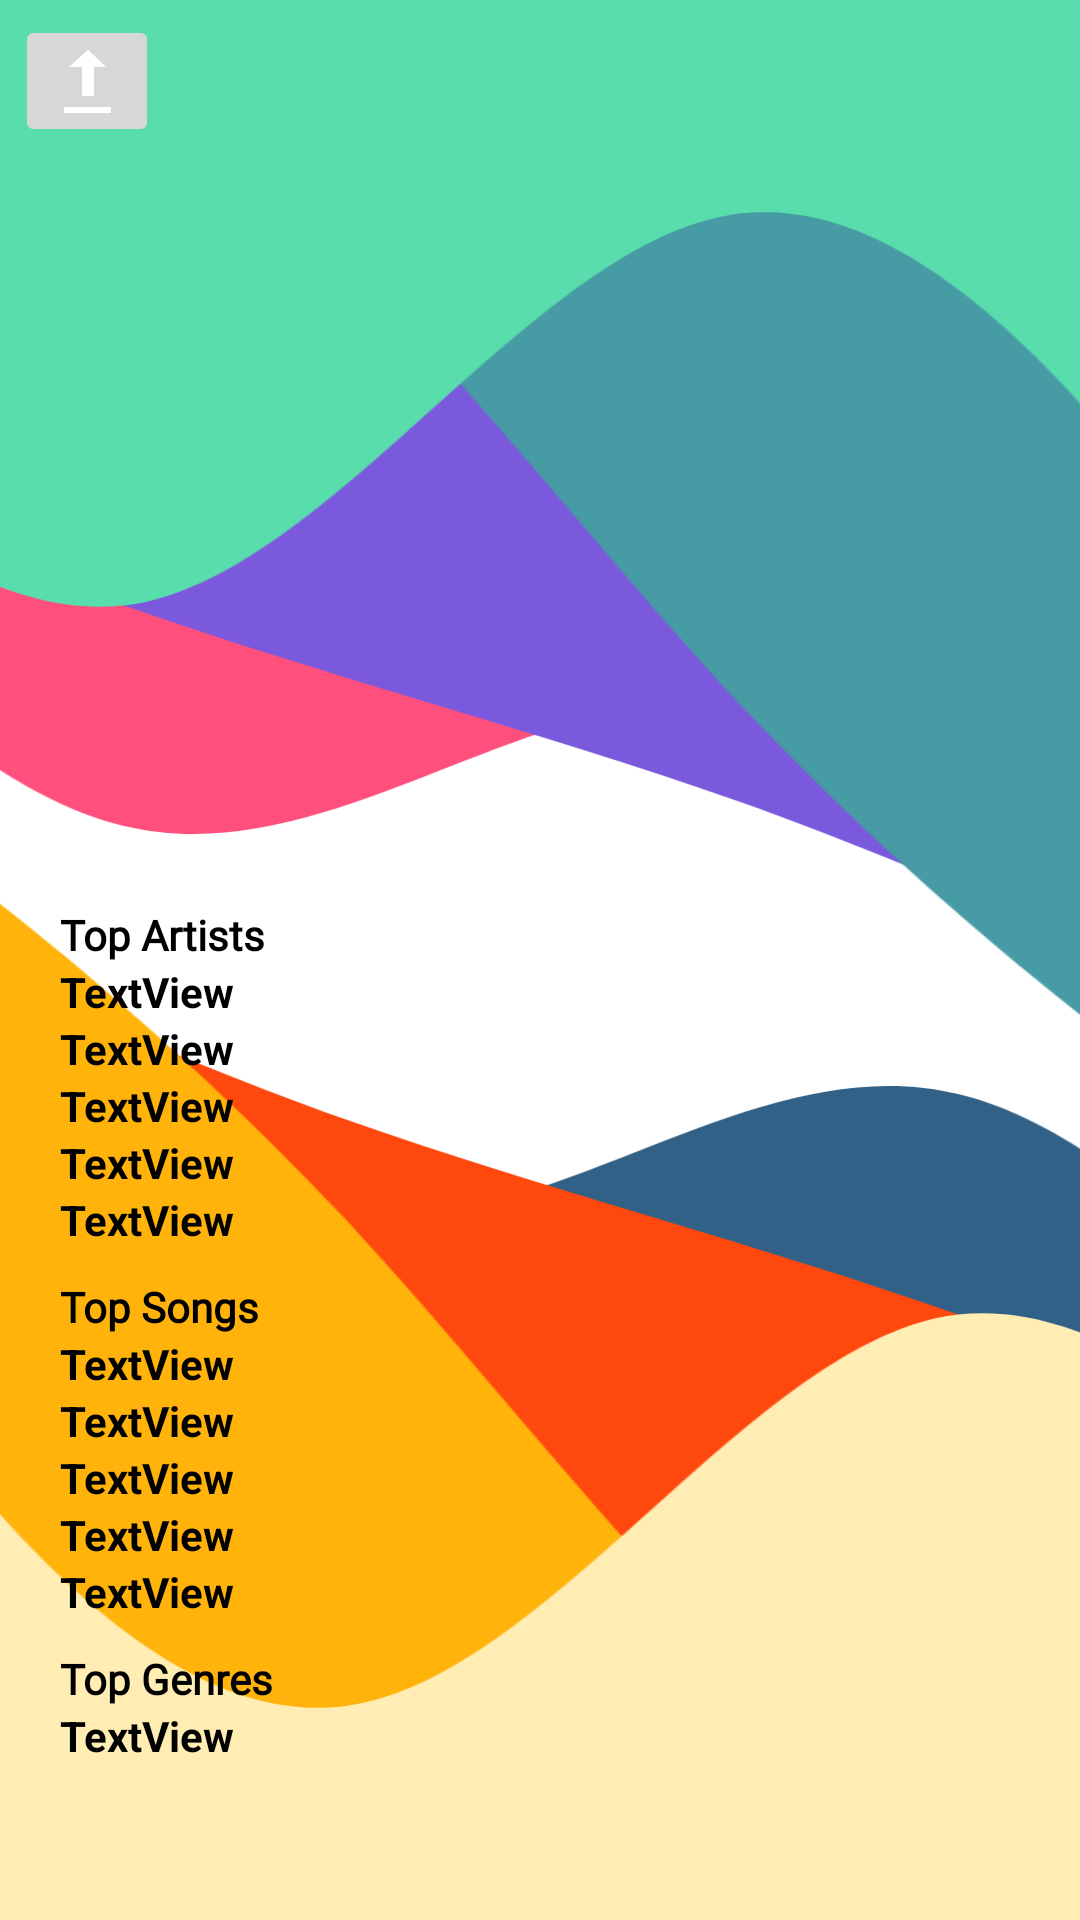

Named icons in this screenshot (1080x1920) and their bounding boxes, box=[x1, y1, x2, y2]:
upload: box=[27, 33, 147, 129]
